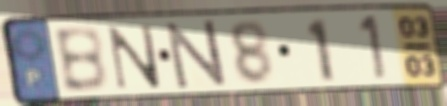1: (356, 12, 390, 83), (305, 15, 337, 84)
8: (226, 17, 277, 87)
B: (50, 23, 111, 95)
N: (163, 17, 230, 92), (106, 22, 164, 91)
